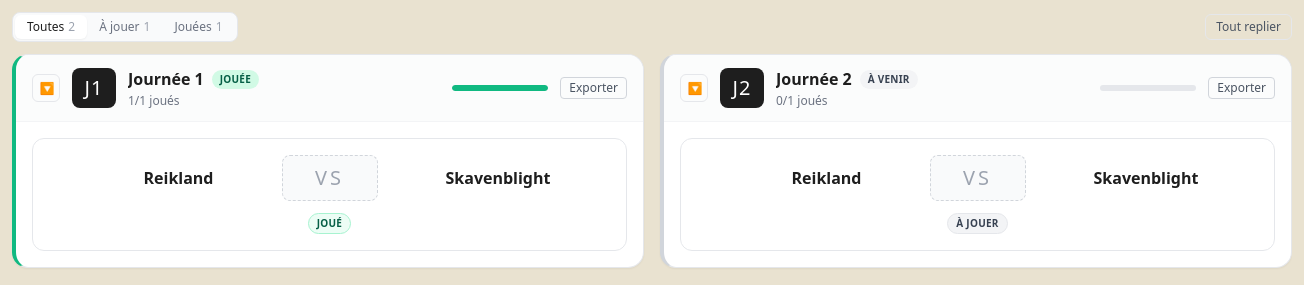
Test: SeasonCalendar — pliage par journée › reflète l'état dans aria-expanded
What coordinates should you click on to do the following:
click the button with test id "league-round-toggle-r1"
I would click on:
 (46, 88)
Its box is [32,74,60,102].
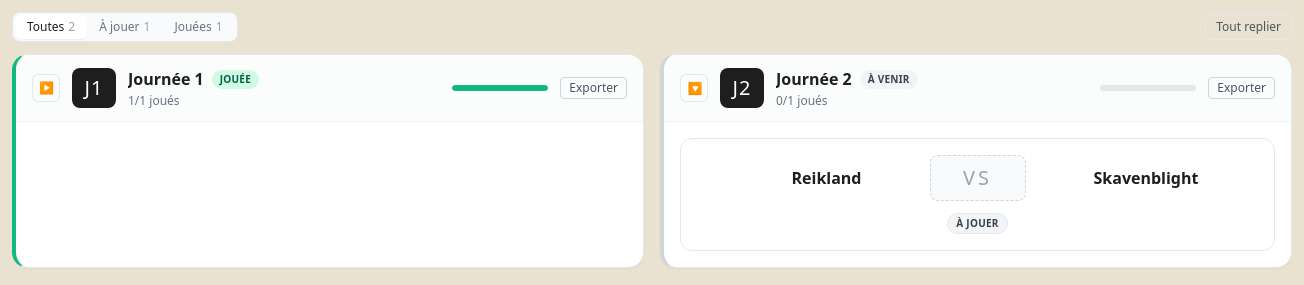
Now the button with test id "league-round-toggle-r1" is collapsed, box [32,74,60,102]
